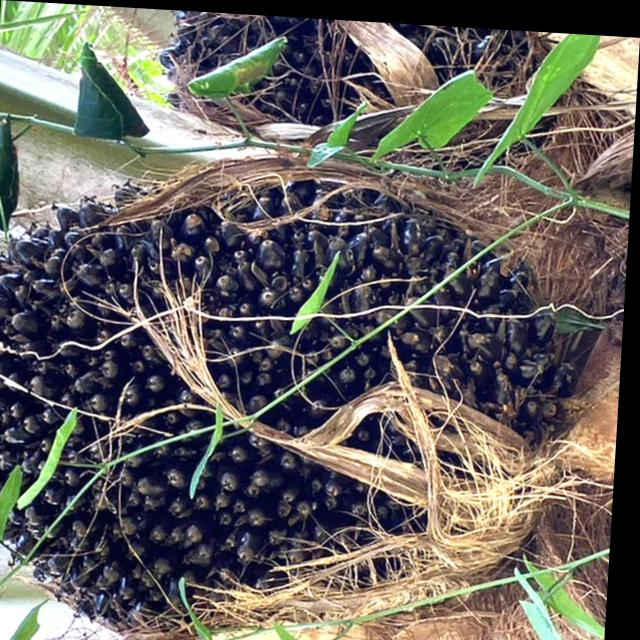unripe: (0, 142, 605, 640)
